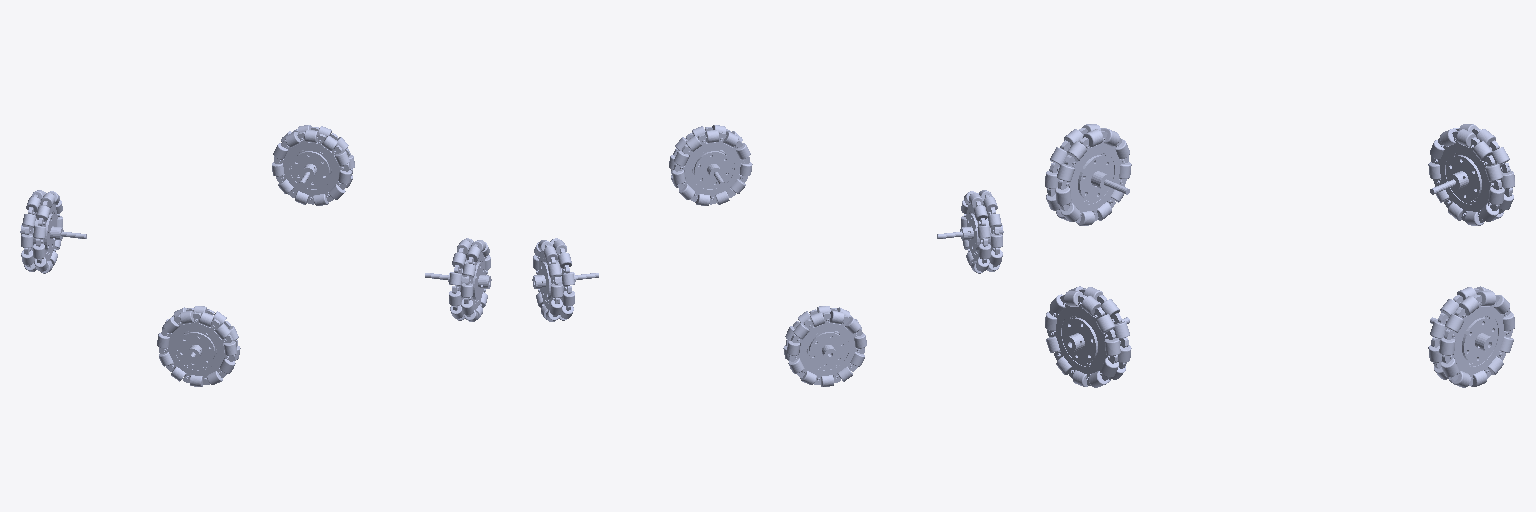
URDF robot description (r2):
<?xml version="1.0" encoding="utf-8"?>
<!-- This URDF was automatically created by SolidWorks to URDF Exporter! Originally created by [author] ([email redacted]) 
     Commit Version: 1.6.0-4-g7f85cfe  Build Version: 1.6.7995.38578
     For more information, please see http://wiki.ros.org/sw_urdf_exporter -->
<robot
  name="r2">
  <link
    name="base_link">
    <inertial>
      <origin
        xyz="-2.4559E-05 0.079296 0.18935"
        rpy="0 0 0" />
      <mass
        value="23.752" />
      <inertia
        ixx="0.019784"
        ixy="0"
        ixz="0"
        iyy="0.013558"
        iyz="0"
        izz="0.014782" />
    </inertial>
    <visual>
      <origin
        xyz="0 0 0"
        rpy="0 0 1.5708" />
      <geometry>
        <mesh
          filename="package://r2/meshes/r2.dae" />
      </geometry>
      <material
        name="">
        <color
          rgba="0.75294 0.75294 0.75294 1" />
      </material>
    </visual>
    <collision>
      <origin
        xyz="0 0 -0.011"
        rpy="0 0 0" />
      <geometry>
        <mesh
          filename="package://r2/meshes/base_link.STL" />
      </geometry>
    </collision>
  </link>
  <link
    name="front_left">
    <inertial>
      <origin
        xyz="3.62457407724337E-05 0.00129082749548115 0.00598788525547711"
        rpy="0 0 0" />
      <mass
        value="0.316692174435936" />
      <inertia
        ixx="0.000638491010184651"
        ixy="0"
        ixz="-2.72054661110847E-20"
        iyy="0.00033573988917753"
        iyz="-9.33352437889943E-20"
        izz="0.00033573988917753" />
    </inertial>
    <visual>
      <origin
        xyz="0 0 0"
        rpy="0 0 1.5708" />
      <geometry>
        <mesh
          filename="package://r2/meshes/front_left_visual.dae" />
      </geometry>
      <material
        name="">
        <color
          rgba="0.792156862745098 0.819607843137255 0.933333333333333 1" />
      </material>
    </visual>
    <collision>
      <origin
        xyz="0 0 -0.006"
        rpy="0 0 0" />
      <geometry>
        <mesh
          filename="package://r2/meshes/front_left.STL" />
      </geometry>
    </collision>
  </link>
  <joint
    name="front_left_joint"
    type="continuous">
    <origin
      xyz="-0.23885 0.24067 0.057012"
      rpy="0 0 2.3562" />
    <parent
      link="base_link" />
    <child
      link="front_left" />
    <axis
      xyz="1 0 0" />
    <dynamics
      friction="1" />
  </joint>
  <link
    name="back_left">
    <inertial>
      <origin
        xyz="0.00129082749548114 -3.62457407724337E-05 0.00598788525547686"
        rpy="0 0 0" />
      <mass
        value="0.316692174435936" />
      <inertia
        ixx="0.000638491010184652"
        ixy="-1.76182853028894E-19"
        ixz="2.30935074418826E-19"
        iyy="0.000335739889177531"
        iyz="1.2477973768582E-20"
        izz="0.000335739889177531" />
    </inertial>
    <visual>
      <origin
        xyz="0 0 0"
        rpy="0 0 1.5708" />
      <geometry>
        <mesh
          filename="package://r2/meshes/back_left_visual.dae" />
      </geometry>
      <material
        name="">
        <color
          rgba="0.792156862745098 0.819607843137255 0.933333333333333 1" />
      </material>
    </visual>
    <collision>
      <origin
        xyz="0 0 -0.006"
        rpy="0 0 0" />
      <geometry>
        <mesh
          filename="package://r2/meshes/back_left.STL" />
      </geometry>
    </collision>
  </link>
  <joint
    name="back_left_joint"
    type="continuous">
    <origin
      xyz="-0.23885 -0.2389 0.057012"
      rpy="0 0 -2.3562" />
    <parent
      link="base_link" />
    <child
      link="back_left" />
    <axis
      xyz="1 0 0" />
    <dynamics
      friction="1" />
  </joint>
  <link
    name="back_right">
    <inertial>
      <origin
        xyz="-3.62457407724059E-05 -0.00129082749548132 0.00598788525547689"
        rpy="0 0 0" />
      <mass
        value="0.316692174435936" />
      <inertia
        ixx="0.000638491010184653"
        ixy="6.7762635780344E-20"
        ixz="-6.64335653201319E-20"
        iyy="0.000335739889177531"
        iyz="4.99118950743322E-22"
        izz="0.000335739889177531" />
    </inertial>
    <visual>
      <origin
        xyz="0 0 0"
        rpy="0 0 1.5708" />
      <geometry>
        <mesh
          filename="package://r2/meshes/back_right_visual.dae" />
      </geometry>
      <material
        name="">
        <color
          rgba="0.792156862745098 0.819607843137255 0.933333333333333 1" />
      </material>
    </visual>
    <collision>
      <origin
        xyz="0 0 -0.006"
        rpy="0 0 0" />
      <geometry>
        <mesh
          filename="package://r2/meshes/back_right.STL" />
      </geometry>
    </collision>
  </link>
  <joint
    name="back_right_joint"
    type="continuous">
    <origin
      xyz="0.24072 -0.2389 0.057012"
      rpy="0 0 -0.7854" />
    <parent
      link="base_link" />
    <child
      link="back_right" />
    <axis
      xyz="1 0 0" />
    <dynamics
      friction="1" />
  </joint>
  <link
    name="front_right">
    <inertial>
      <origin
        xyz="-0.00129082749548137 3.62457407725725E-05 0.00598788525547689"
        rpy="0 0 0" />
      <mass
        value="0.316692174435936" />
      <inertia
        ixx="0.000638491010184652"
        ixy="5.42101086242752E-20"
        ixz="1.54644884199612E-19"
        iyy="0.000335739889177531"
        iyz="2.04638769804749E-20"
        izz="0.000335739889177531" />
    </inertial>
    <visual>
      <origin
        xyz="0 0 0"
        rpy="0 0 1.5708" />
      <geometry>
        <mesh
          filename="package://r2/meshes/front_right_visual.dae" />
      </geometry>
      <material
        name="">
        <color
          rgba="0.792156862745098 0.819607843137255 0.933333333333333 1" />
      </material>
    </visual>
    <collision>
      <origin
        xyz="0 0 -0.006"
        rpy="0 0 0" />
      <geometry>
        <mesh
          filename="package://r2/meshes/front_right.STL" />
      </geometry>
    </collision>
  </link>
  <joint
    name="front_right_joint"
    type="continuous">
    <origin
      xyz="0.24072 0.24067 0.057012"
      rpy="0 0 0.7854" />
    <parent
      link="base_link" />
    <child
      link="front_right" />
    <axis
      xyz="1 0 0" />
    <dynamics
      friction="1" />
  </joint>
  <link
    name="camera">
    <inertial>
      <origin
        xyz="-0.000935586981284306 -0.00431065419746651 0.0184588575878352"
        rpy="0 0 0" />
      <mass
        value="0.152248582067584" />
      <inertia
        ixx="2.28162451989774E-05"
        ixy="-2.04183802129697E-09"
        ixz="-6.37754261206263E-09"
        iyy="0.000372334061892829"
        iyz="-1.51892484277487E-07"
        izz="0.000374734574404034" />
    </inertial>
    <visual>
      <origin
        xyz="0 0 0"
        rpy="0 0 0" />
      <geometry>
        <mesh
          filename="package://r2/meshes/camera.STL" />
      </geometry>
      <material
        name="">
        <color
          rgba="0.101960784313725 0.101960784313725 0.101960784313725 1" />
      </material>
    </visual>
    <collision>
      <origin
        xyz="0 0 0"
        rpy="0 0 0" />
      <geometry>
        <mesh
          filename="package://r2/meshes/camera.STL" />
      </geometry>
    </collision>
  </link>
  <joint
    name="camera_joint"
    type="fixed">
    <origin
      xyz="0.00093838 0.24497 0.46519"
      rpy="-0.34907 0 0" />
    <parent
      link="base_link" />
    <child
      link="camera" />
    <axis
      xyz="0 0 0" />
  </joint>
</robot>

--- Facts derived from the render (not from the file) ---
3 views of the same robot in one strip: view 1: azimuth 30°, elevation 25°; view 2: azimuth 150°, elevation 25°; view 3: azimuth 270°, elevation 25° (orthographic).
Model r2 with 6 links and 5 joints (4 continuous, 1 fixed), rooted at base_link, posed every joint at zero.
Links seen in each view (by area): view 1: front_right, back_left, front_left, back_right; view 2: back_right, front_left, back_left, front_right; view 3: front_left, back_left, front_right, back_right.
Boxes of the visible links, <box> form: front_right: <box>272,125,354,205</box>; back_left: <box>157,306,240,386</box>; front_left: <box>20,190,86,273</box>; back_right: <box>425,238,491,321</box>; back_right: <box>669,125,752,205</box>; front_left: <box>783,306,866,386</box>; back_left: <box>937,190,1003,273</box>; front_right: <box>532,238,598,321</box>; front_left: <box>1428,124,1514,225</box>; back_left: <box>1045,124,1131,225</box>; front_right: <box>1428,286,1514,387</box>; back_right: <box>1045,286,1131,387</box>.
Bounding box of the posed robot: 0.5884 × 0.5884 × 0.126 m (x, y, z).
Meshes: 6 distinct files referenced, 4 mesh visuals loaded (4 Collada DAE); not drawn: 2 (reference not matched to a file when rendering).